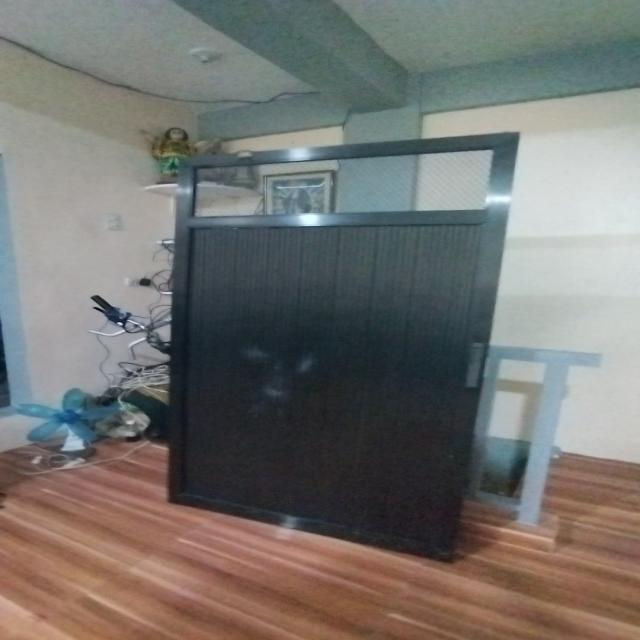door: (162, 129, 519, 566)
